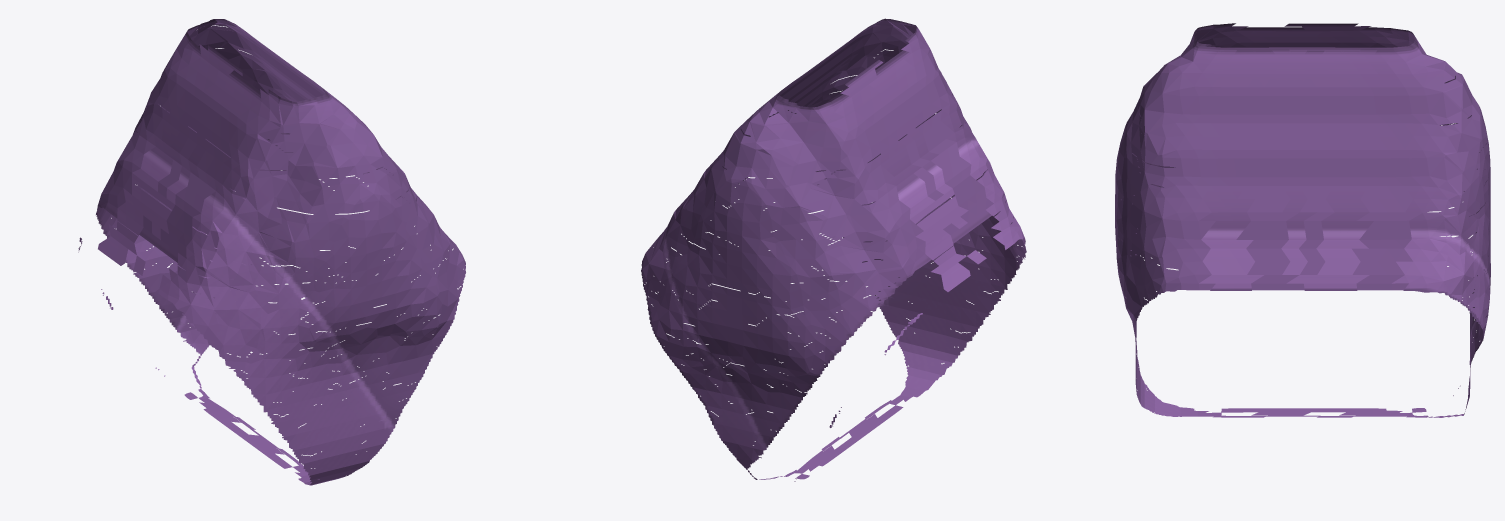
3 renders of one model, left to right at view 1: azimuth 30°, elevation 25°; view 2: azimuth 150°, elevation 25°; view 3: azimuth 270°, elevation 25°, orthographic.
Parts seen in each view (by area): view 1: reconstruction; view 2: reconstruction; view 3: reconstruction.
Boxes of the visible parts, bbox=[...] form: reconstruction: bbox=[78, 19, 465, 485]; reconstruction: bbox=[641, 18, 1026, 481]; reconstruction: bbox=[1115, 23, 1490, 417].
Bounding box in the file's own units: 1 × 0.8597 × 0.74.
Materials: 1 (1 with a texture image).
